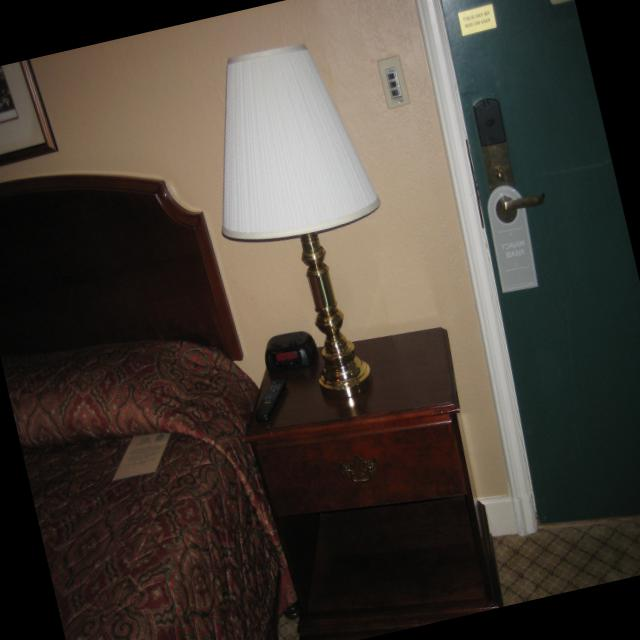bed -occluded-: (0, 172, 298, 640)
clock: (265, 332, 316, 372)
door entrance: (440, 0, 640, 525)
door knob: (498, 190, 546, 211)
drawer handle: (250, 414, 470, 518)
lamp crop: (214, 33, 384, 405)
remote control: (255, 379, 285, 421)
